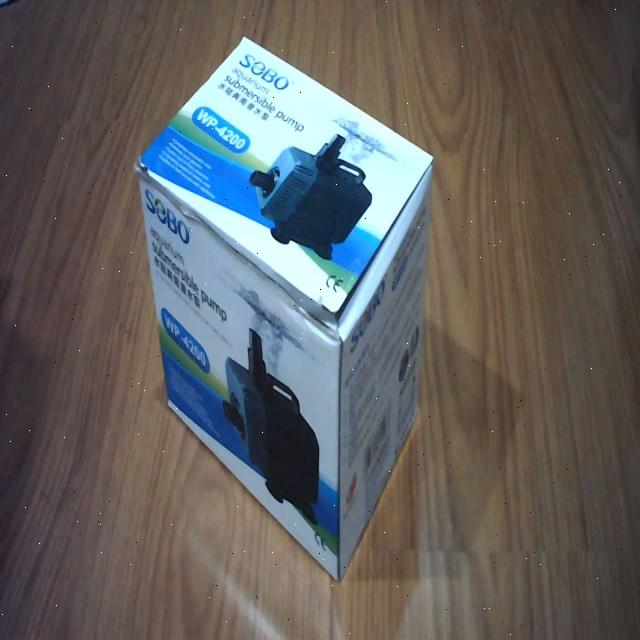SOBO_WP_4200: (133, 29, 440, 582)
